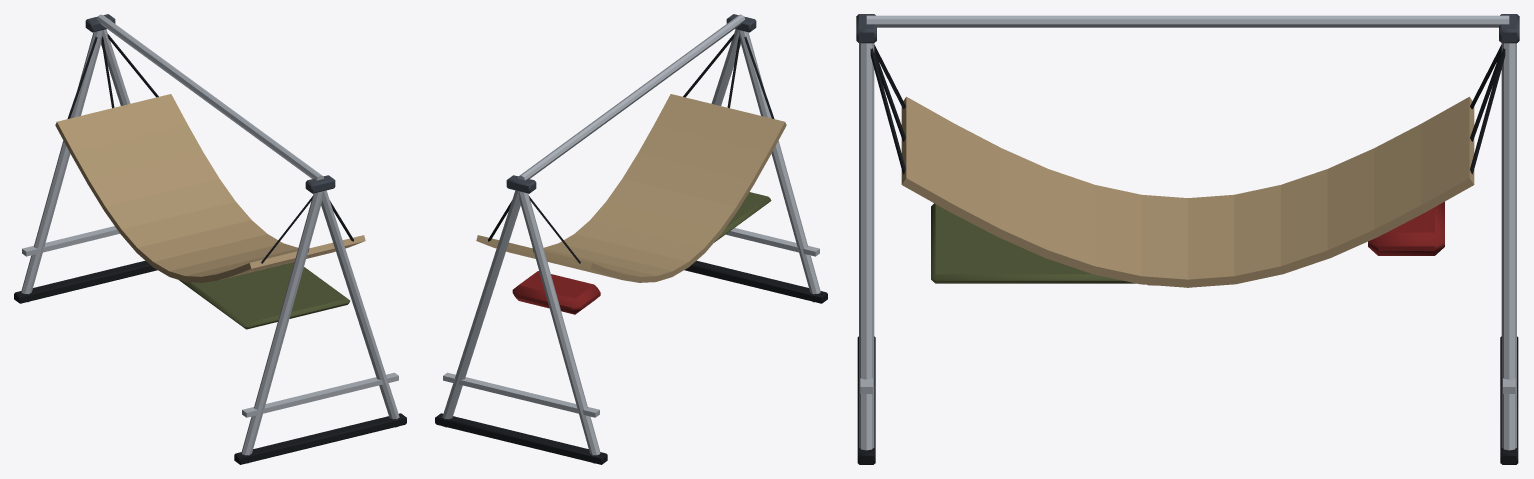
The model's file is bed_hammock_frame.glb.
The picture shows the model from 3 angles, left to right: view 1: azimuth 30°, elevation 25°; view 2: azimuth 150°, elevation 25°; view 3: azimuth 270°, elevation 25°; orthographic projection. The views are drawn at different scales.
Parts seen in each view (by area): view 1: bed_hammock_frame; view 2: bed_hammock_frame; view 3: bed_hammock_frame.
Boxes of the visible parts, x1,y1,x2,y2 form: bed_hammock_frame: (14, 14, 406, 464); bed_hammock_frame: (435, 14, 827, 464); bed_hammock_frame: (856, 14, 1519, 464).
Bounding box in the file's own units: 1.1 × 1.68 × 2.58.
